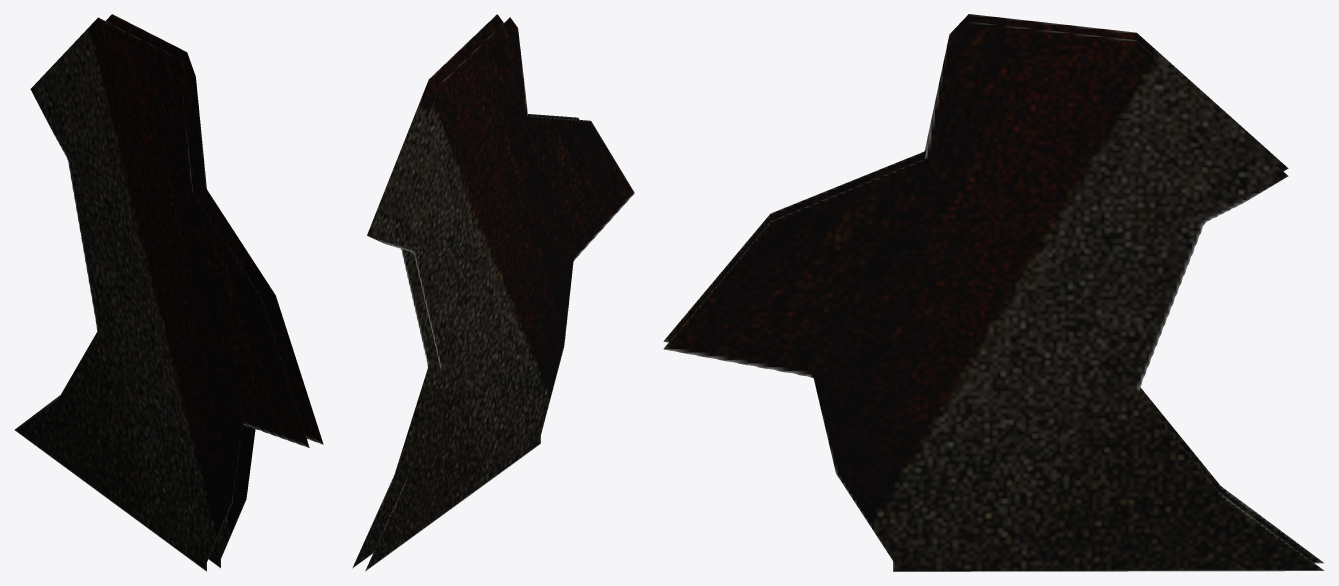
The model's file is Peça 5.fbx.
The picture shows the model from 3 angles, left to right: view 1: azimuth 30°, elevation 25°; view 2: azimuth 150°, elevation 25°; view 3: azimuth 270°, elevation 25°; orthographic projection. The views are drawn at different scales.
Parts seen in each view (by area): view 1: Plane; view 2: Plane; view 3: Plane.
Part boxes in pixels (<box>): Plane: <box>14,14,323,571</box>; Plane: <box>352,14,634,571</box>; Plane: <box>663,14,1324,571</box>.
Bounding box in the file's own units: 13.58 × 457 × 497.
